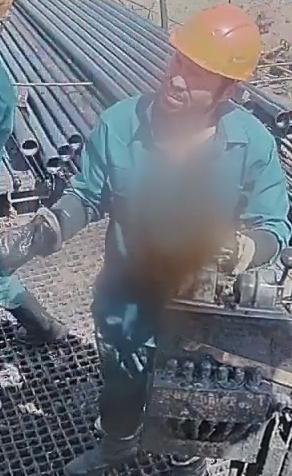gloves: (0, 202, 71, 274)
helmet: (168, 3, 262, 81)
vest: (86, 90, 291, 243)
